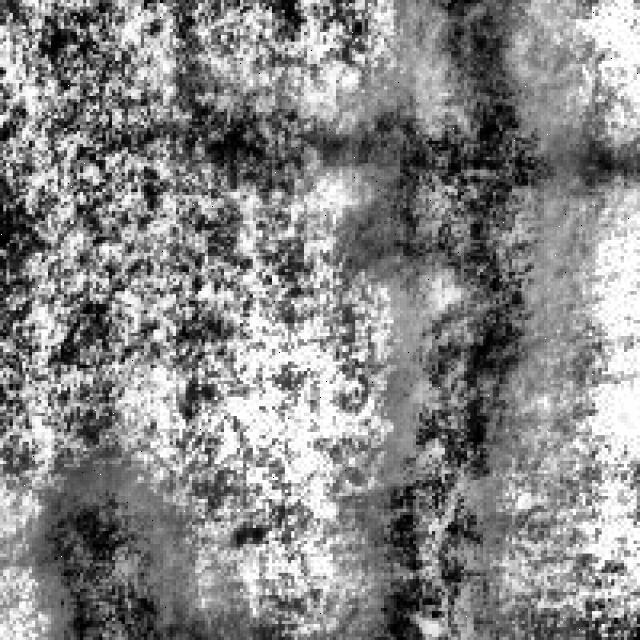Scratches: (346, 0, 570, 637), (29, 470, 180, 636)
